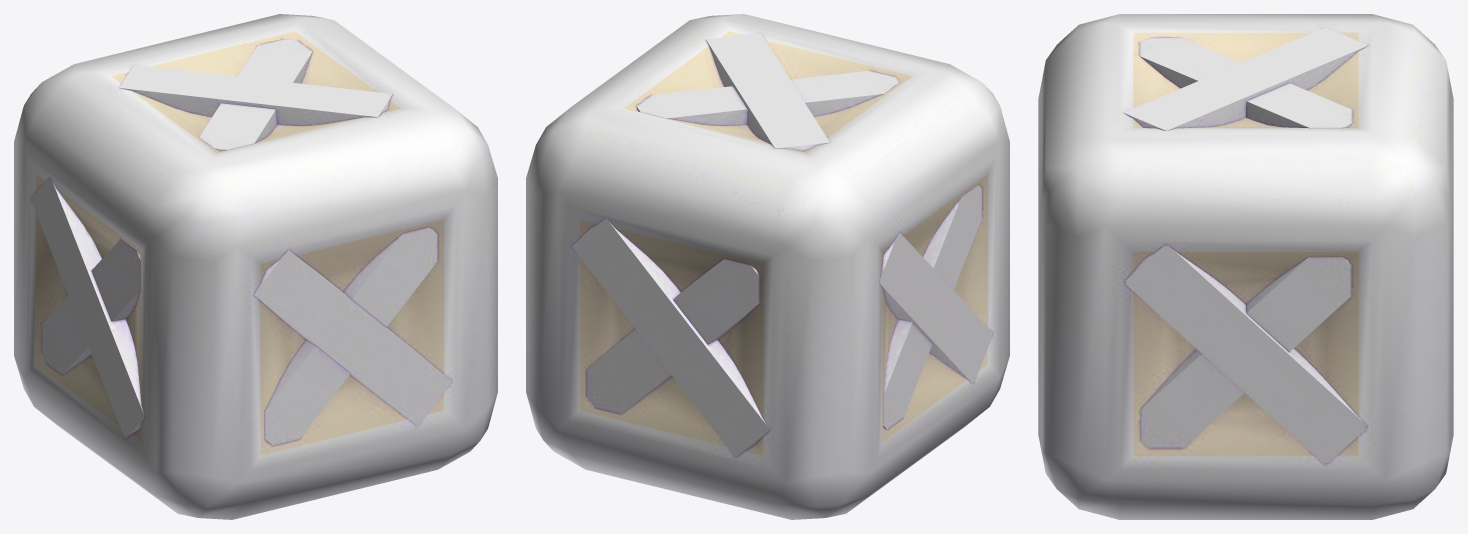
File: sandik.glb
3 views of the same model, side by side, from view 1: azimuth 30°, elevation 25°; view 2: azimuth 150°, elevation 25°; view 3: azimuth 270°, elevation 25° (orthographic). The views are drawn at different scales.
Visible parts, largest first — view 1: sandik; view 2: sandik; view 3: sandik.
Part boxes in pixels (bbox=[...]): sandik: bbox=[14, 14, 497, 519]; sandik: bbox=[526, 14, 1009, 519]; sandik: bbox=[1038, 14, 1453, 519].
Size of the model in its own units: 1.52 by 1.51 by 1.51.
1 material, 1 textured.
